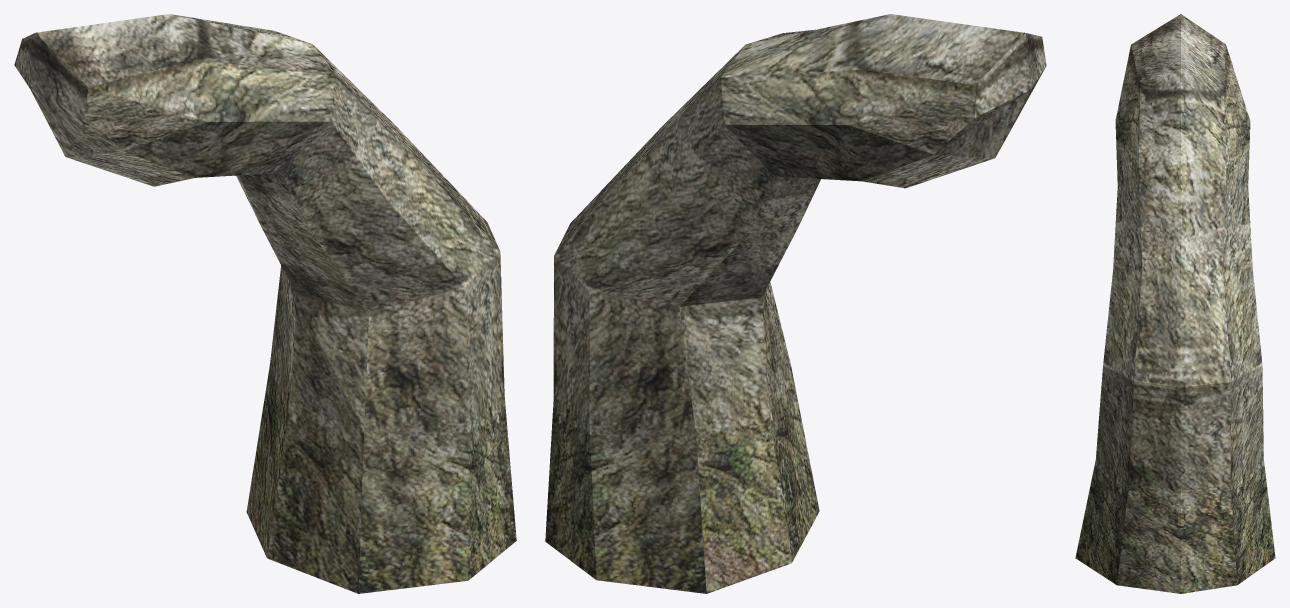
3 views of the same model, side by side, from view 1: azimuth 30°, elevation 25°; view 2: azimuth 150°, elevation 25°; view 3: azimuth 270°, elevation 25° (orthographic). The views are drawn at different scales.
Visible parts, largest first — view 1: Shape02; view 2: Shape02; view 3: Shape02.
Part boxes in pixels (left/top/right/bottom): Shape02: left=14, top=14, right=516, bottom=593; Shape02: left=545, top=14, right=1046, bottom=593; Shape02: left=1075, top=14, right=1275, bottom=593.
Size of the model in its own units: 7.46 by 8.89 by 3.85.
